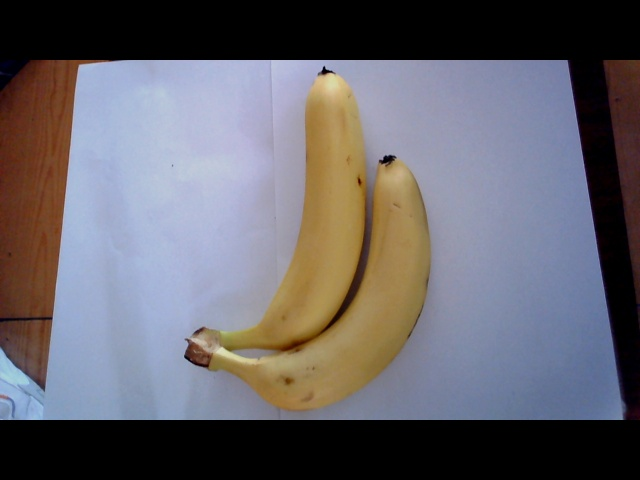banana: (212, 70, 431, 416)
